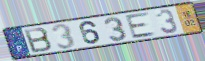3: (51, 21, 77, 51), (103, 15, 128, 43), (154, 8, 179, 36)
6: (78, 20, 103, 45)
B: (22, 26, 54, 54)
E: (124, 11, 158, 41)
